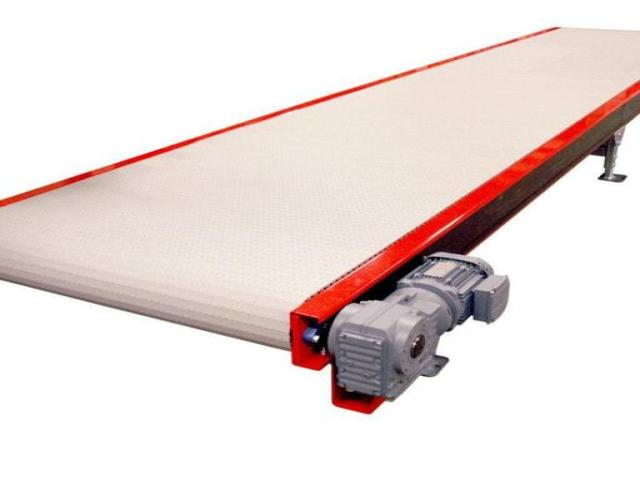conveyor: (6, 29, 640, 391)
